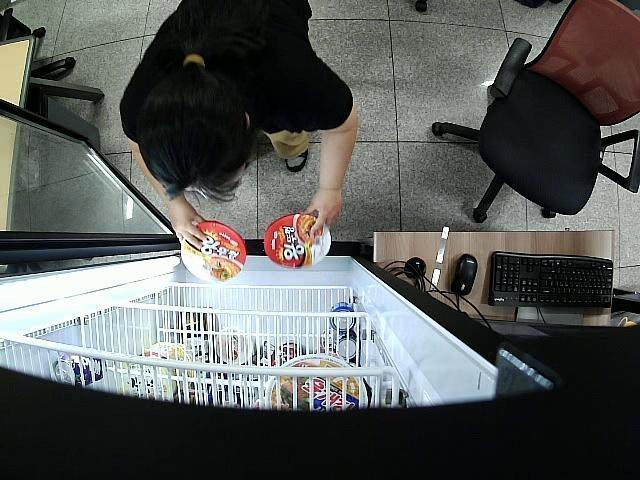10_wangTtukkeong: (264, 213, 332, 268), (182, 221, 244, 281)
